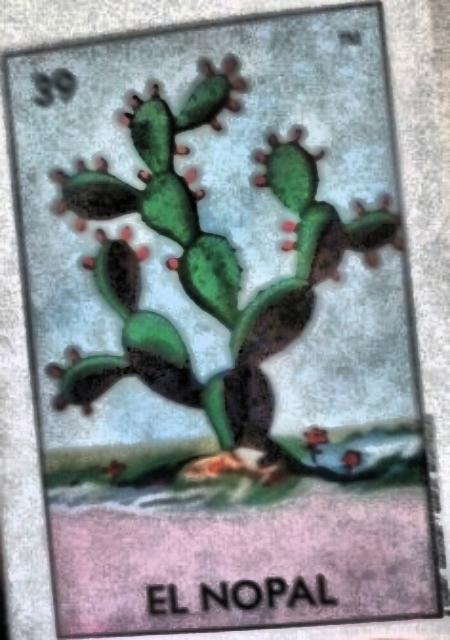El Nopal: (8, 7, 445, 634)
